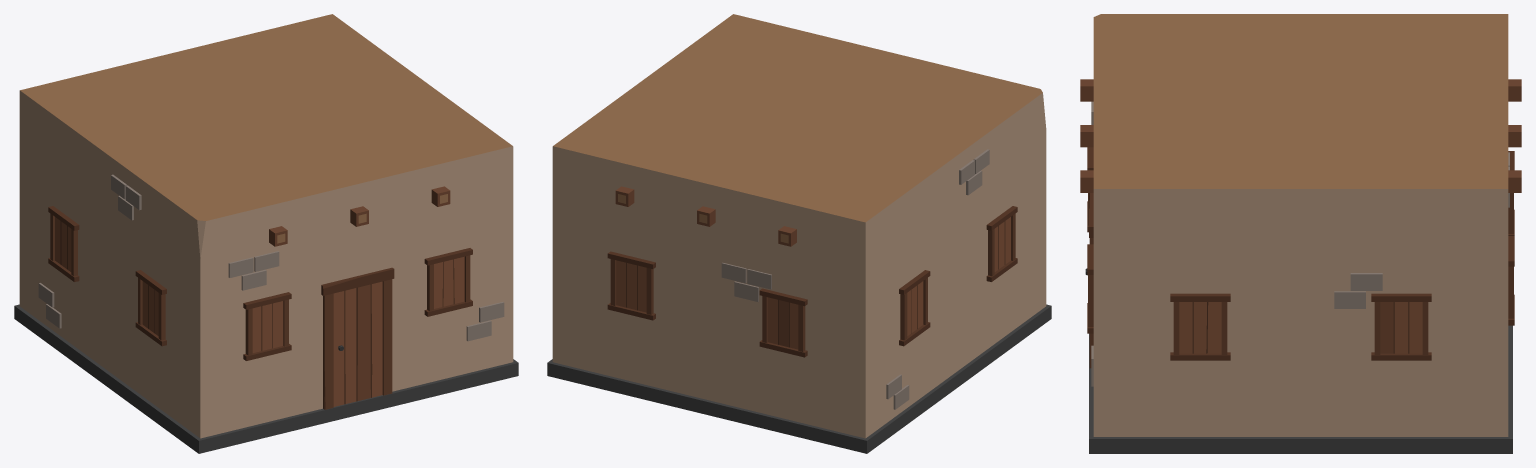
Rendered from Building_01.glb.
3 renders of one model, left to right at view 1: azimuth 30°, elevation 25°; view 2: azimuth 150°, elevation 25°; view 3: azimuth 270°, elevation 25°, orthographic. The views are drawn at different scales.
Parts seen in each view (by area): view 1: Building_01; view 2: Building_01; view 3: Building_01.
Part boxes in pixels (box(x1,y1,x2,y2)): Building_01: box(14, 14, 518, 453); Building_01: box(547, 14, 1051, 453); Building_01: box(1080, 14, 1521, 453).
Bounding box in the file's own units: 5.16 × 3.5 × 5.33.
Materials: 1 (1 with a texture image).
